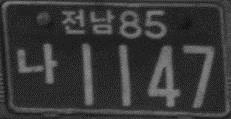1: (80, 38, 96, 109)
2: (114, 39, 134, 108)
4: (144, 43, 183, 106)
5: (144, 8, 167, 40)
7: (181, 40, 216, 112)
8: (118, 7, 142, 41)
나: (15, 40, 58, 86)
전남_O: (61, 8, 115, 36)
